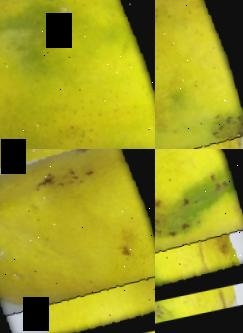PartiallyRipe: (0, 0, 155, 149)
Ripe: (0, 149, 155, 333), (155, 149, 243, 311), (155, 0, 243, 149)
